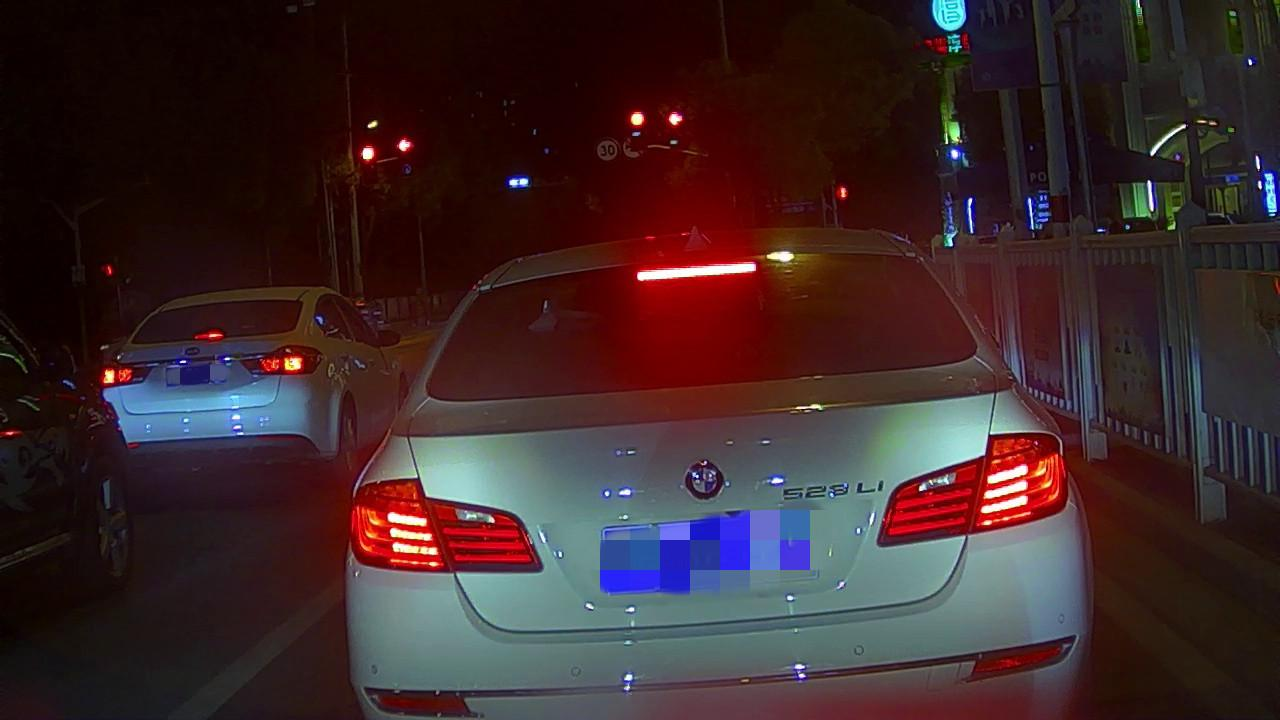traffic_light: (626, 108, 649, 130), (356, 141, 377, 165), (663, 109, 686, 129), (394, 134, 413, 157)
